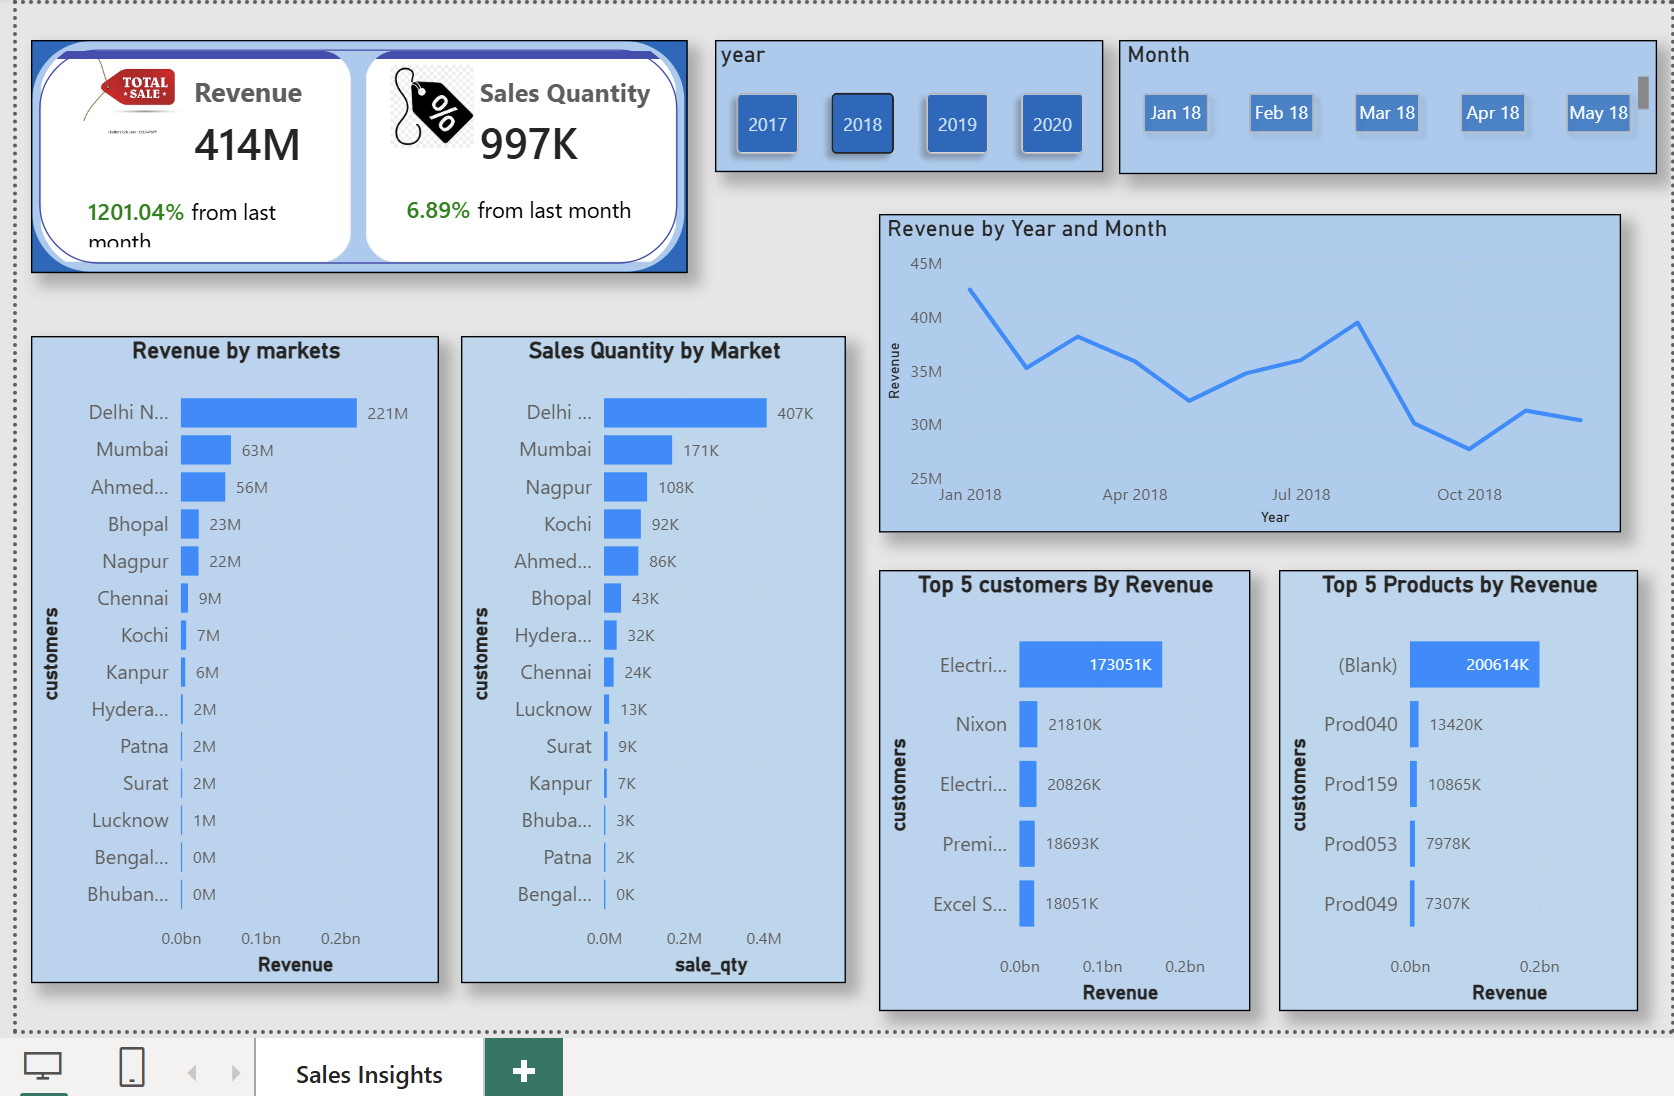

What the dashboard file says about the page in this screenshot:
{"tool":"powerbi","page":{"name":"Page 1","canvas":[1221,757],"ordinal":0},"visuals":[{"type":"cardVisual","fields":{"Data":["base_measures.Revenue"]},"box":[10.1,1.4,225.7,176.5],"z":0},{"type":"cardVisual","fields":{"Data":["base_measures.sale_qty"]},"box":[256.1,0,263.3,177.9],"z":1000},{"type":"barChart","title":"Revenue by markets","fields":{"Y":["base_measures.Revenue"],"Category":["sales markets.markets_name"]},"box":[10.1,279.2,300.9,477.4],"z":2000},{"type":"barChart","title":"Sales Quantity by Market","fields":{"Y":["base_measures.sale_qty"],"Category":["sales markets.markets_name"]},"box":[311,279.2,283.5,477.4],"z":3000},{"type":"advancedSlicerVisual","fields":{"Values":["sales date.year"]},"box":[519.4,8.7,282.1,96.9],"z":4000},{"type":"advancedSlicerVisual","fields":{"Values":["sales date.cy_date"]},"box":[811.6,18.8,409.4,86.8],"z":5000},{"type":"barChart","title":"Top 5 customers By Revenue","fields":{"Y":["base_measures.Revenue"],"Category":["sales customers.custmer_name"]},"box":[610.5,457.2,290.8,300.9],"z":5001},{"type":"barChart","title":"Top 5 Products by Revenue","fields":{"Y":["base_measures.Revenue"],"Category":["sales products.product_code"]},"box":[930.2,457.2,290.8,300.9],"z":5002},{"type":"lineChart","fields":{"Y":["base_measures.Revenue"],"Category":["sales date.cy_date"]},"box":[610.5,128.8,548.3,235.8],"z":5003}]}

Visuals, with their boxes in screenshot pixels (x1, y1, x2, y2):
cardVisual - base_measures.Revenue: box(31, 37, 336, 275)
cardVisual - base_measures.sale_qty: box(364, 35, 720, 275)
"Revenue by markets" barChart: box(31, 412, 438, 1058)
"Sales Quantity by Market" barChart: box(438, 412, 821, 1058)
advancedSlicerVisual - sales date.year: box(720, 47, 1101, 178)
advancedSlicerVisual - sales date.cy_date: box(1115, 60, 1668, 178)
"Top 5 customers By Revenue" barChart: box(843, 653, 1236, 1060)
"Top 5 Products by Revenue" barChart: box(1275, 653, 1668, 1060)
lineChart - base_measures.Revenue x sales date.cy_date: box(843, 209, 1584, 528)
